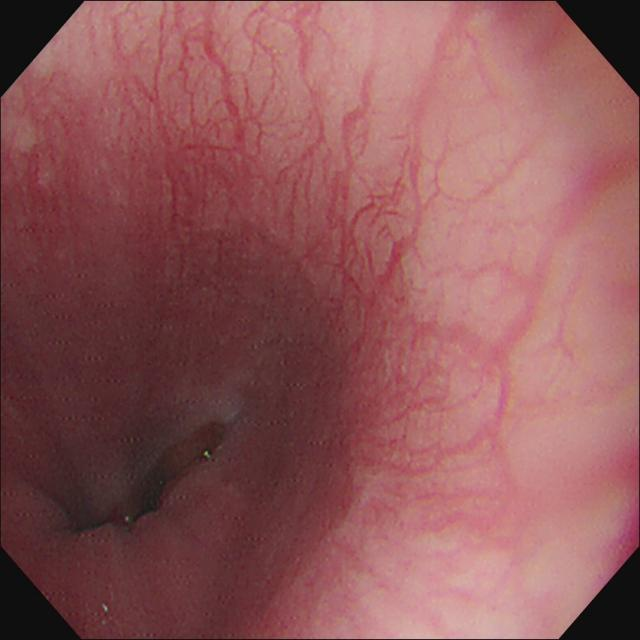I: (34, 390, 245, 581)
